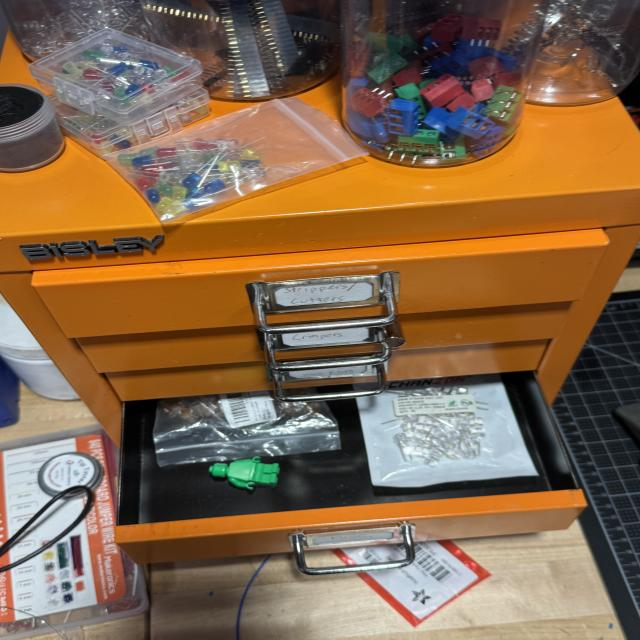Green Mini Figure: (209, 456, 280, 490)
